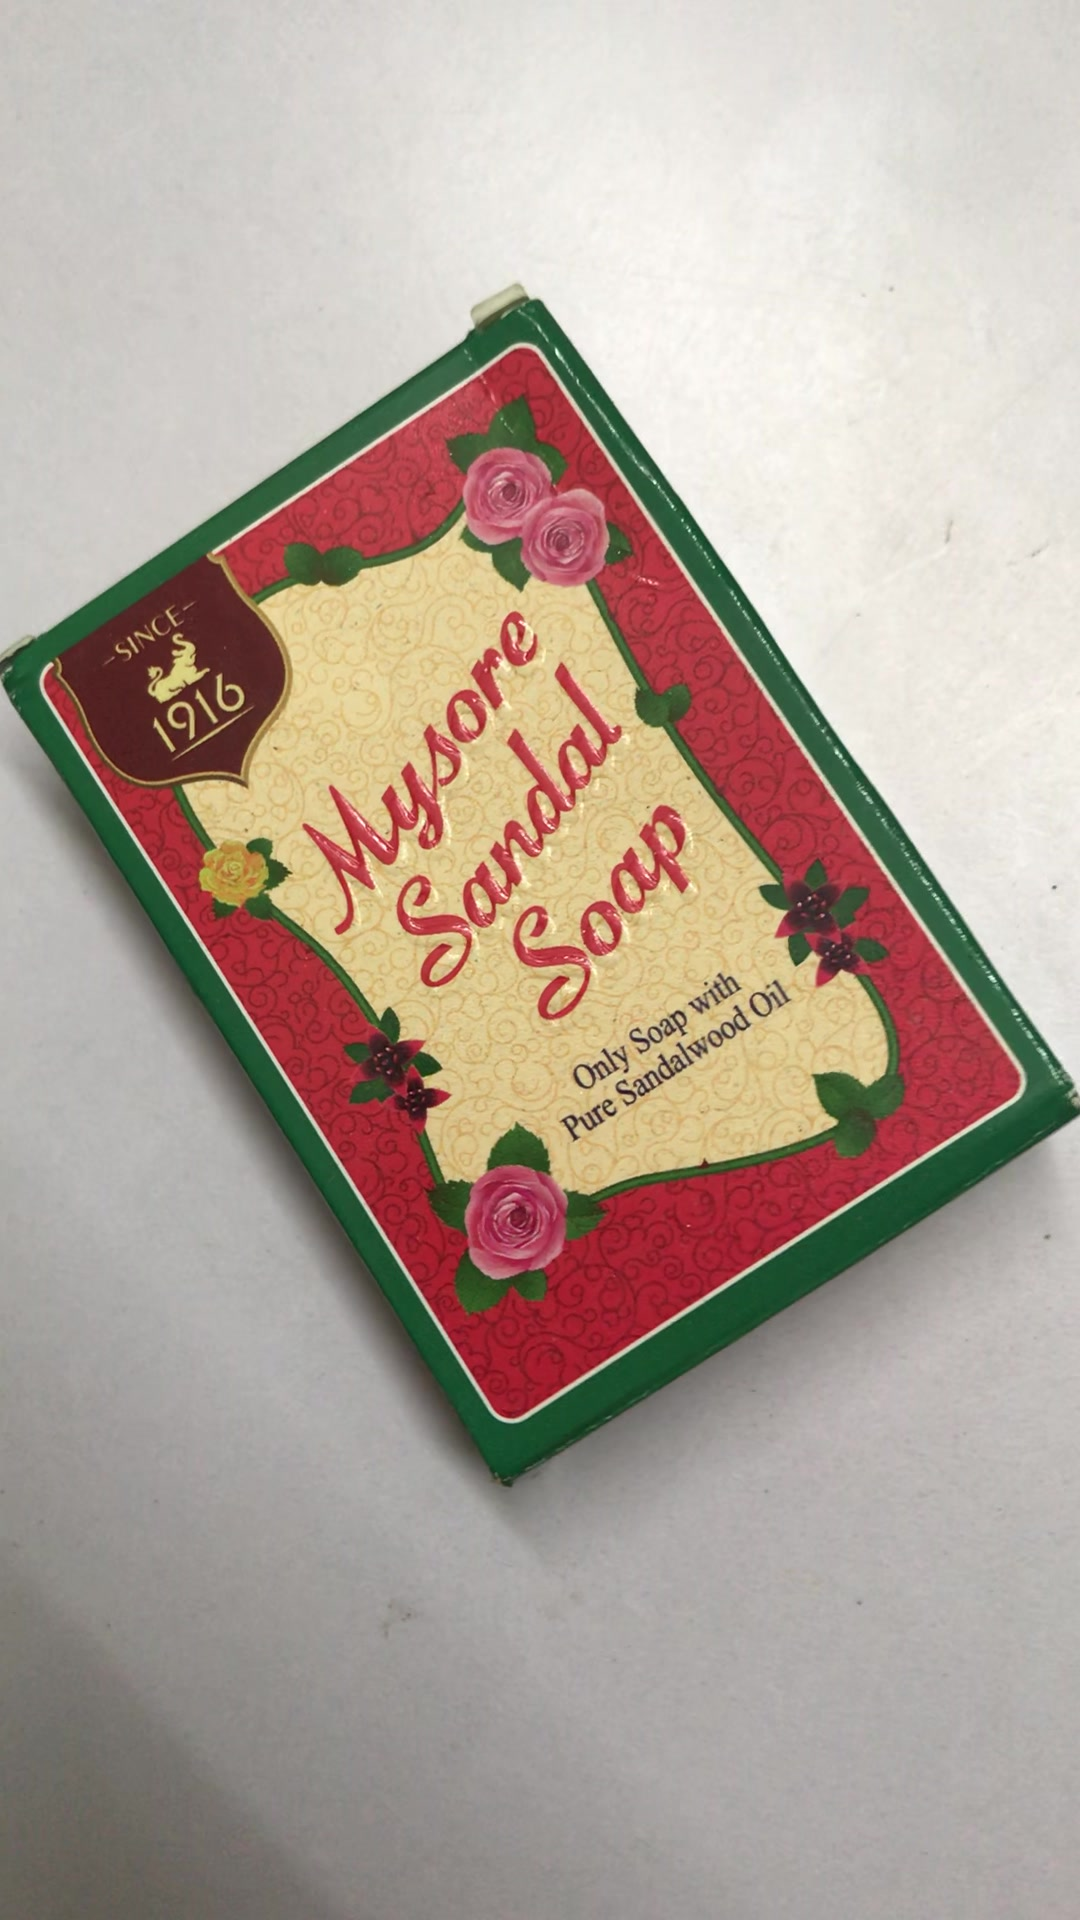mysore sandal soap: (7, 298, 1080, 1482)
